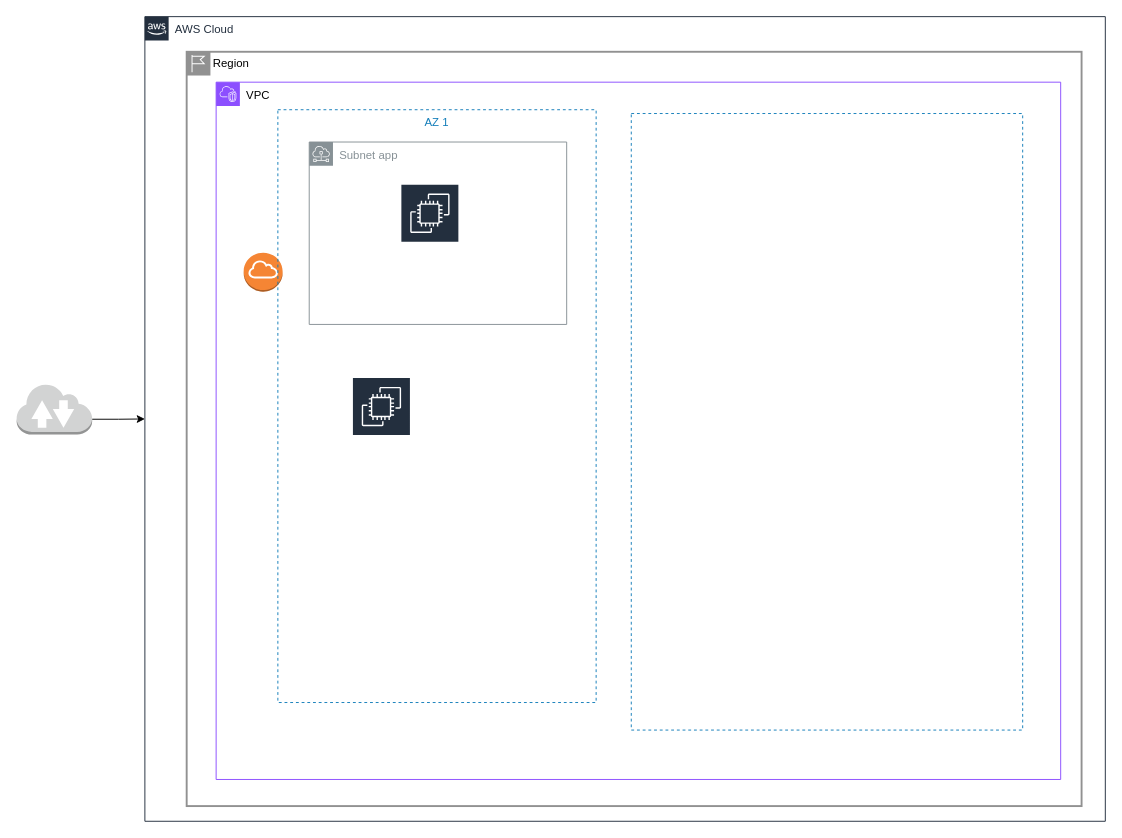
The diagram is 1122 pixels wide and 838 high, and some of its shapes have lost their labels. Each missing label, with the centre of its shape:
"Amazon EC2" goes at (x=381, y=421).
"app" goes at (x=429, y=228).
"AZ 2" goes at (x=826, y=421).
